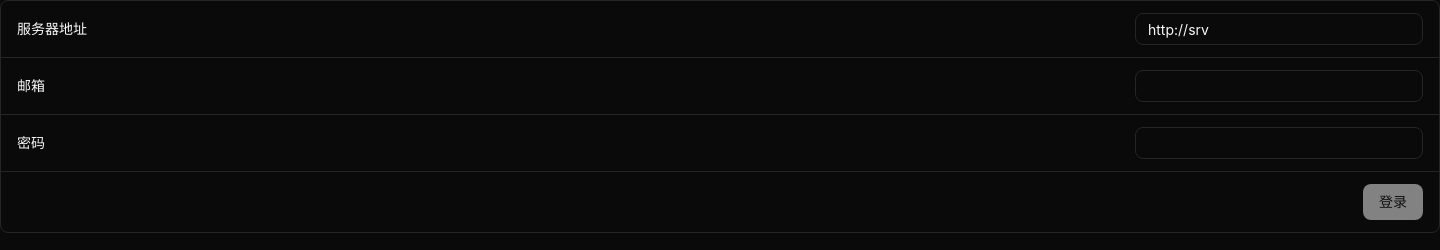
it: LoginForm › disables submit until email + password are present
expect the button "登录" is disabled: met, box [1363,184,1423,220]
Type "b@test" into the field in the row of "邮箱" at {"x": 1279, "y": 86}, box [1135,70,1423,102]
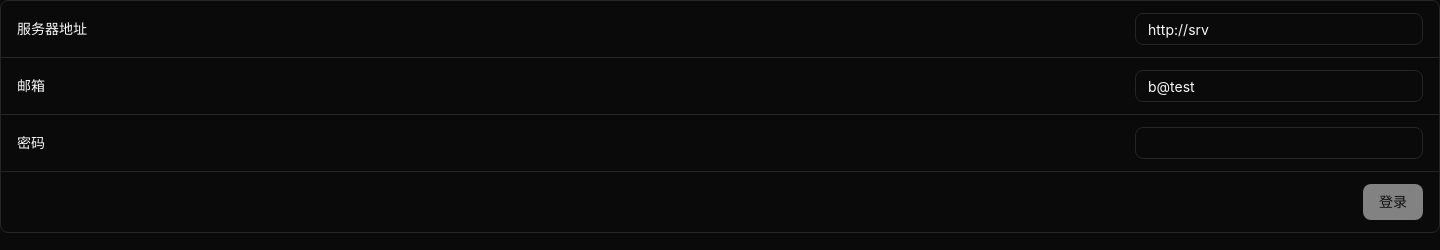
Type "pw" into the password field at {"x": 1279, "y": 143}, box [1135,127,1423,159]
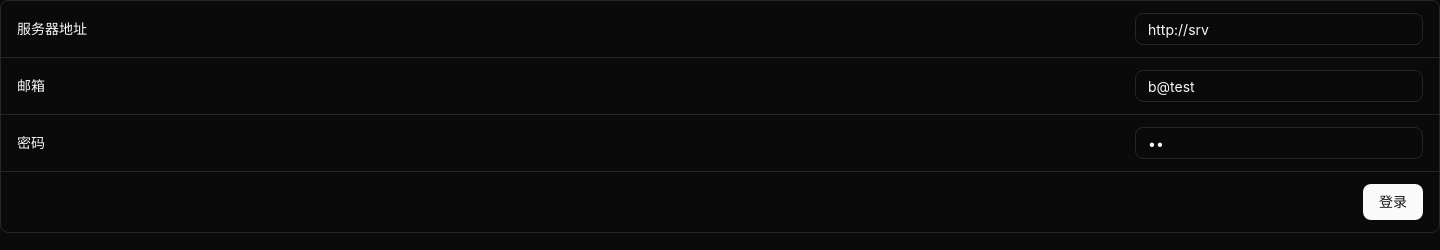
expect the button "登录" is enabled: met, box [1363,184,1423,220]
